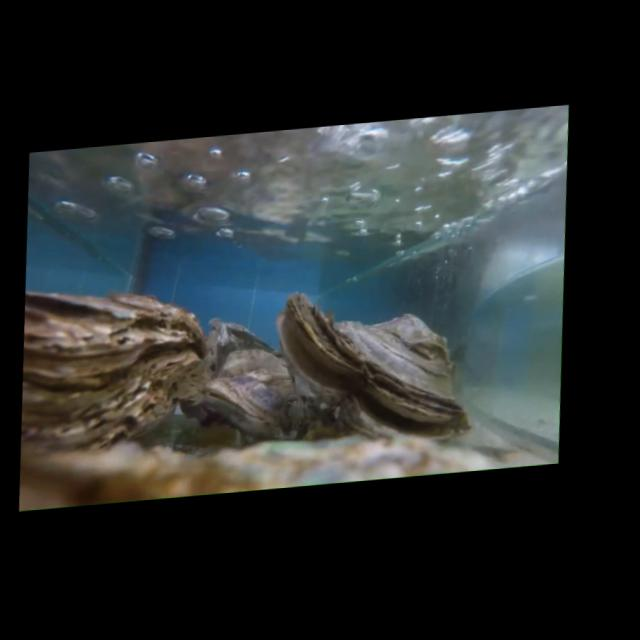Oyster-Closed: (19, 435, 497, 509), (21, 292, 208, 449), (205, 318, 274, 376)
Oyster-Open: (277, 294, 469, 439), (197, 368, 305, 439)
